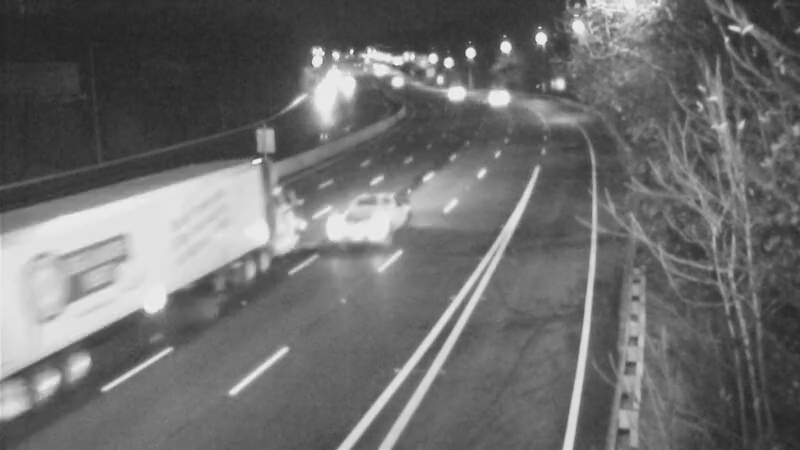vehicle: (326, 171, 406, 251), (107, 193, 187, 273), (427, 64, 477, 114), (468, 75, 518, 125), (297, 74, 347, 124)
